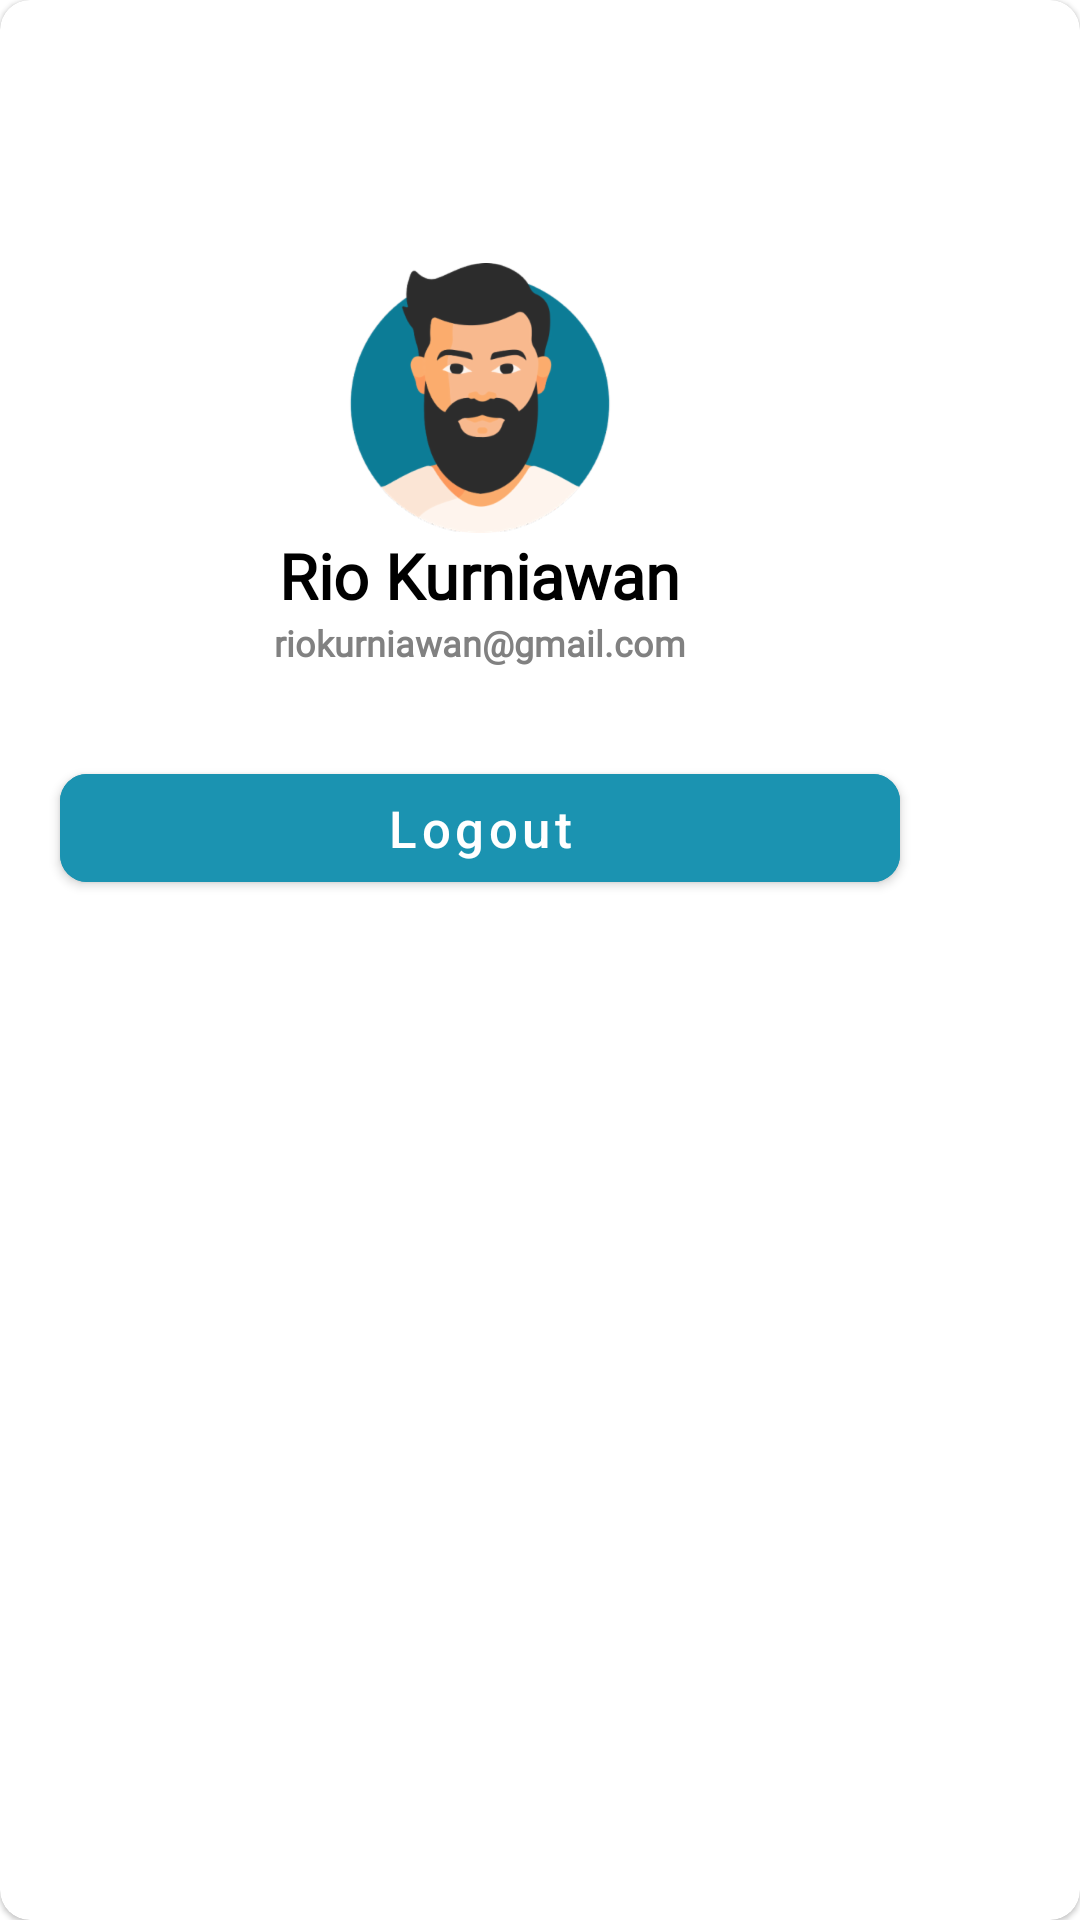

Icon click points for this 1080*1920 phone screenshot, format (x=x, y=y):
imgperson: (x=480, y=396)
